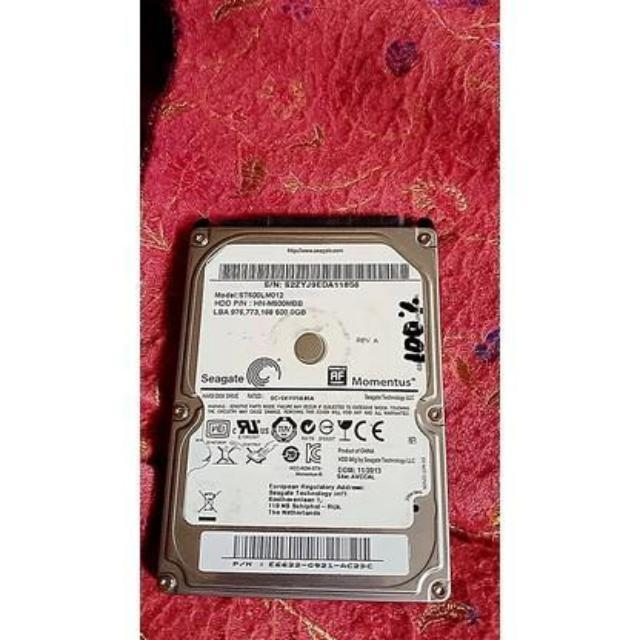DISK: (162, 217, 452, 606)
